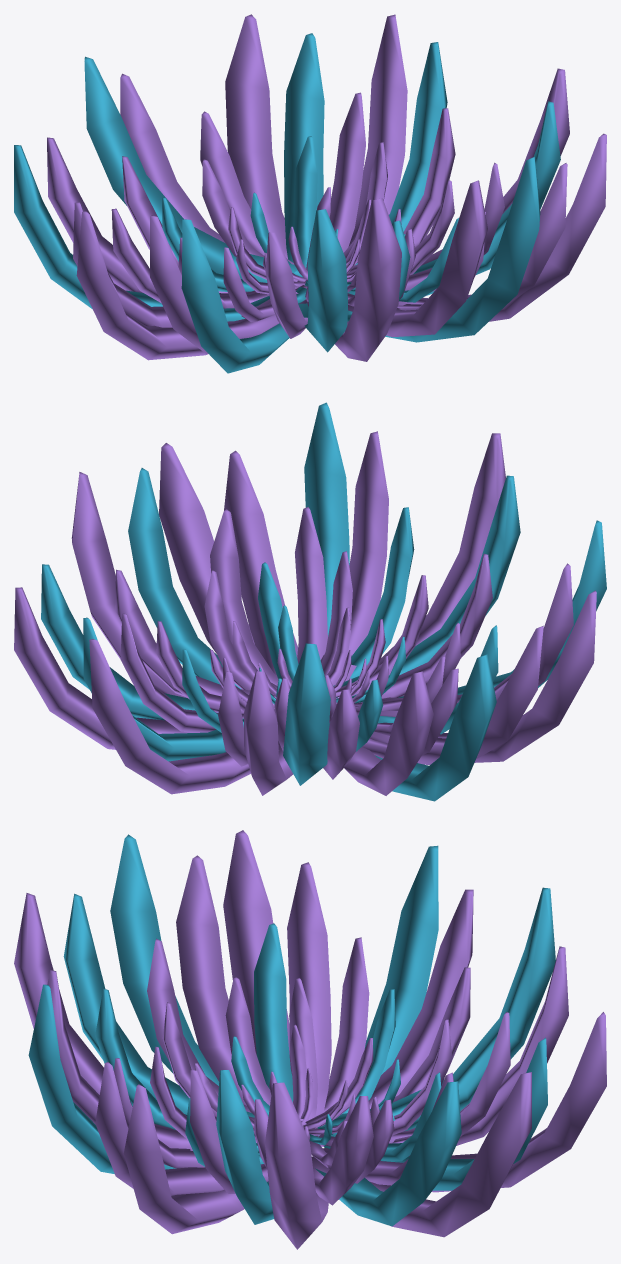
File: coral 1.gltf
3 renders of one model, top to bottom at view 1: azimuth 30°, elevation 25°; view 2: azimuth 150°, elevation 25°; view 3: azimuth 270°, elevation 25°, orthographic. The views are drawn at different scales.
Visible parts, largest first — view 1: node-0; view 2: node-0; view 3: node-0.
Part boxes in pixels (x1,y1,x2,y2): node-0: [14, 14, 606, 373]; node-0: [14, 402, 606, 801]; node-0: [14, 830, 606, 1249].
Size of the model in its own units: 0.4429 by 0.1973 by 0.4139.
